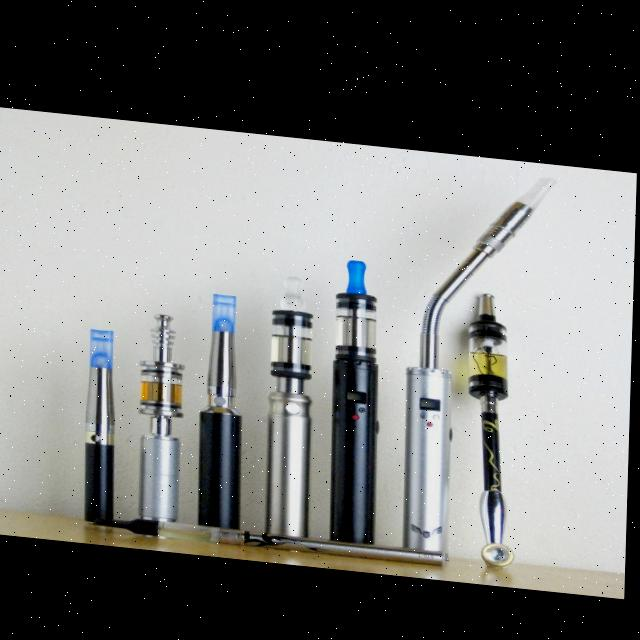vape: (408, 162, 556, 543), (96, 514, 448, 558), (466, 281, 522, 557), (332, 252, 385, 538), (268, 267, 318, 532), (200, 287, 250, 523), (141, 309, 188, 523), (84, 325, 121, 517)
